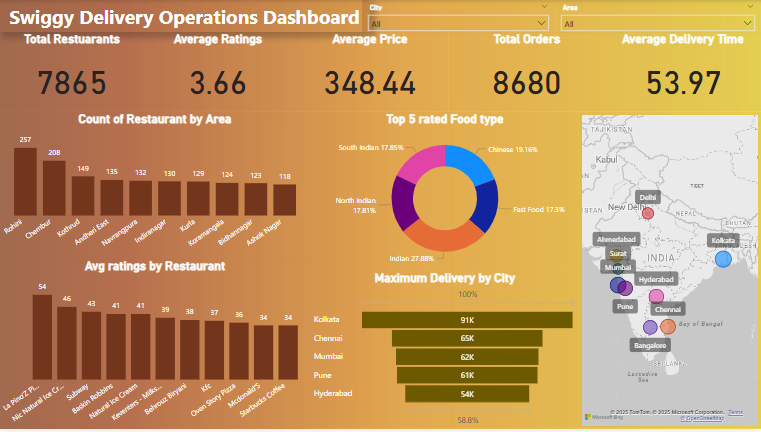

This screenshot's page, from the dashboard's own definition file:
{"tool":"powerbi","page":{"name":"Page 1","canvas":[1280,720],"ordinal":0},"visuals":[{"type":"textbox","box":[0,0,623.2,53.8],"z":0},{"type":"card","title":"Average Ratings","fields":{"Values":["Avg(swiggy.Avg ratings)"]},"box":[245.2,53.8,245.2,134.4],"z":1000},{"type":"card","title":"Total Restuarants","fields":{"Values":["Count(swiggy.Restaurant)"]},"box":[0,53.8,245.2,134.4],"z":2000},{"type":"card","title":"Average Price","fields":{"Values":["Avg(swiggy.Price)"]},"box":[490.5,53.8,265.4,134.4],"z":3000},{"type":"card","title":"Average Delivery Time","fields":{"Values":["Avg(swiggy.Delivery time)"]},"box":[1018,53.8,262,134.4],"z":4000},{"type":"slicer","fields":{"Values":["swiggy.Area"]},"box":[934,0,346,53.8],"z":5000},{"type":"slicer","fields":{"Values":["swiggy.City"]},"box":[609.8,0,324.2,53.8],"z":6000},{"type":"map","fields":{"Category":["swiggy.City"],"Size":["CountNonNull(swiggy.Area)"],"Series":["swiggy.City"]},"box":[974.3,188.1,305.7,532.5],"z":7000},{"type":"card","title":"Total Orders","fields":{"Values":["CountNonNull(swiggy.ID)"]},"box":[755.9,53.8,262,134.4],"z":7001},{"type":"columnChart","fields":{"Category":["swiggy.Area"],"Y":["CountNonNull(swiggy.Restaurant)"]},"box":[0,188.1,524.1,246.9],"z":7002},{"type":"donutChart","title":"Top 5 rated Food type","fields":{"Y":["Sum(swiggy.Avg ratings)"],"Series":["swiggy.Food type"]},"box":[524.1,188.1,450.2,267.1],"z":7003},{"type":"columnChart","title":"Avg ratings by Restaurant","fields":{"Category":["swiggy.Restaurant"],"Y":["Sum(swiggy.Avg ratings)"]},"box":[0,435.1,524.1,285.6],"z":7004},{"type":"funnel","title":"Maximum Delivery by City","fields":{"Category":["swiggy.City"],"Y":["Sum(swiggy.Delivery time)"]},"box":[524.1,455.2,450.2,265.4],"z":7005}]}

Visuals, with their boxes in screenshot pixels (x1, y1, x2, y2), scaled from the page's 1280x720 canvas onto the 761x432 screenshot:
textbox: <region>0, 0, 371, 32</region>
"Average Ratings" card: <region>146, 32, 292, 113</region>
"Total Restuarants" card: <region>0, 32, 146, 113</region>
"Average Price" card: <region>292, 32, 449, 113</region>
"Average Delivery Time" card: <region>605, 32, 760, 113</region>
slicer - swiggy.Area: <region>555, 0, 760, 32</region>
slicer - swiggy.City: <region>363, 0, 555, 32</region>
map - swiggy.City x CountNonNull(swiggy.Area): <region>579, 113, 760, 431</region>
"Total Orders" card: <region>449, 32, 605, 113</region>
columnChart - swiggy.Area x CountNonNull(swiggy.Restaurant): <region>0, 113, 312, 261</region>
"Top 5 rated Food type" donutChart: <region>312, 113, 579, 273</region>
"Avg ratings by Restaurant" columnChart: <region>0, 261, 312, 431</region>
"Maximum Delivery by City" funnel: <region>312, 273, 579, 431</region>
